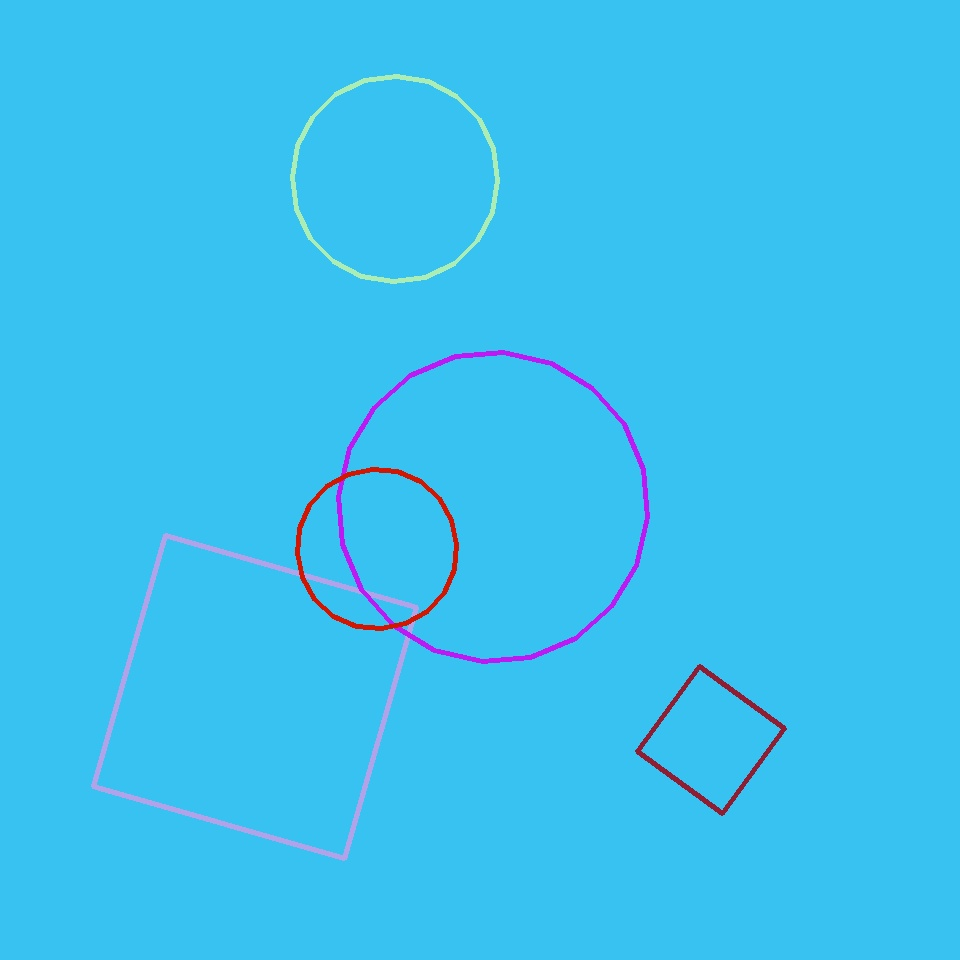square: (93, 536, 416, 858), (638, 666, 784, 814)
triangle: (338, 352, 648, 661), (292, 77, 497, 282), (298, 470, 456, 628)
